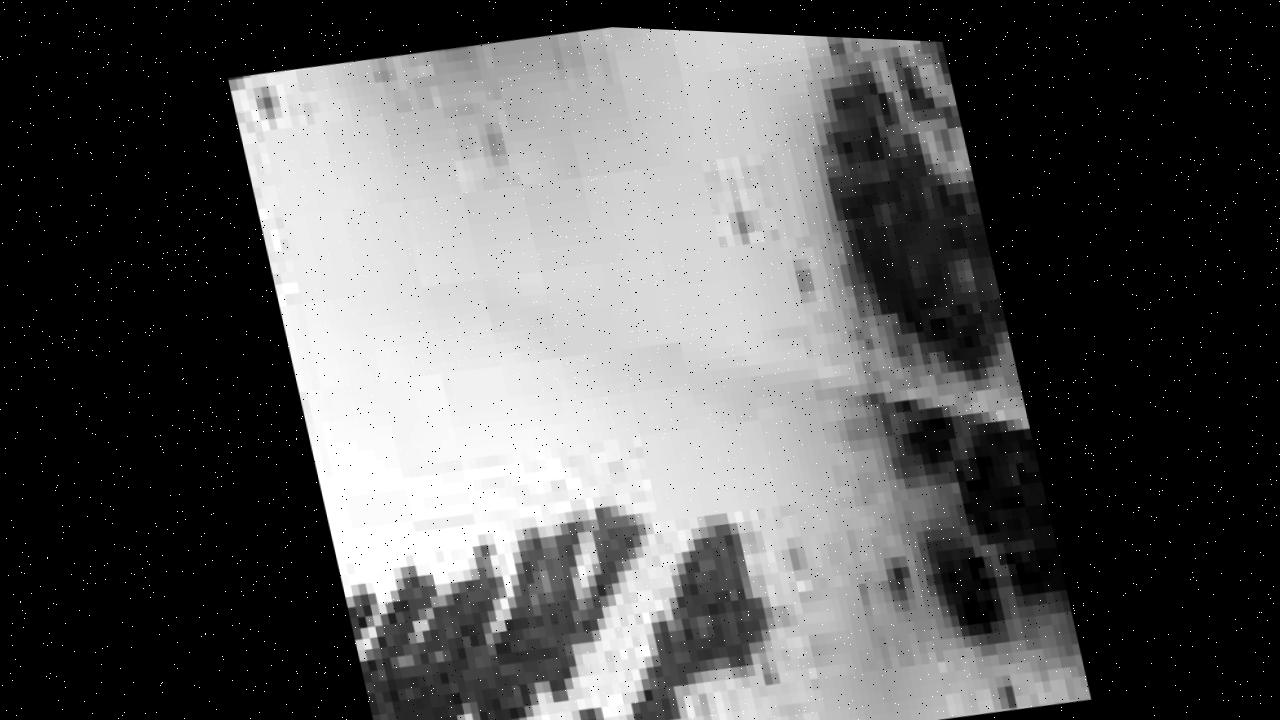drinks Stains: (223, 8, 1086, 720)
